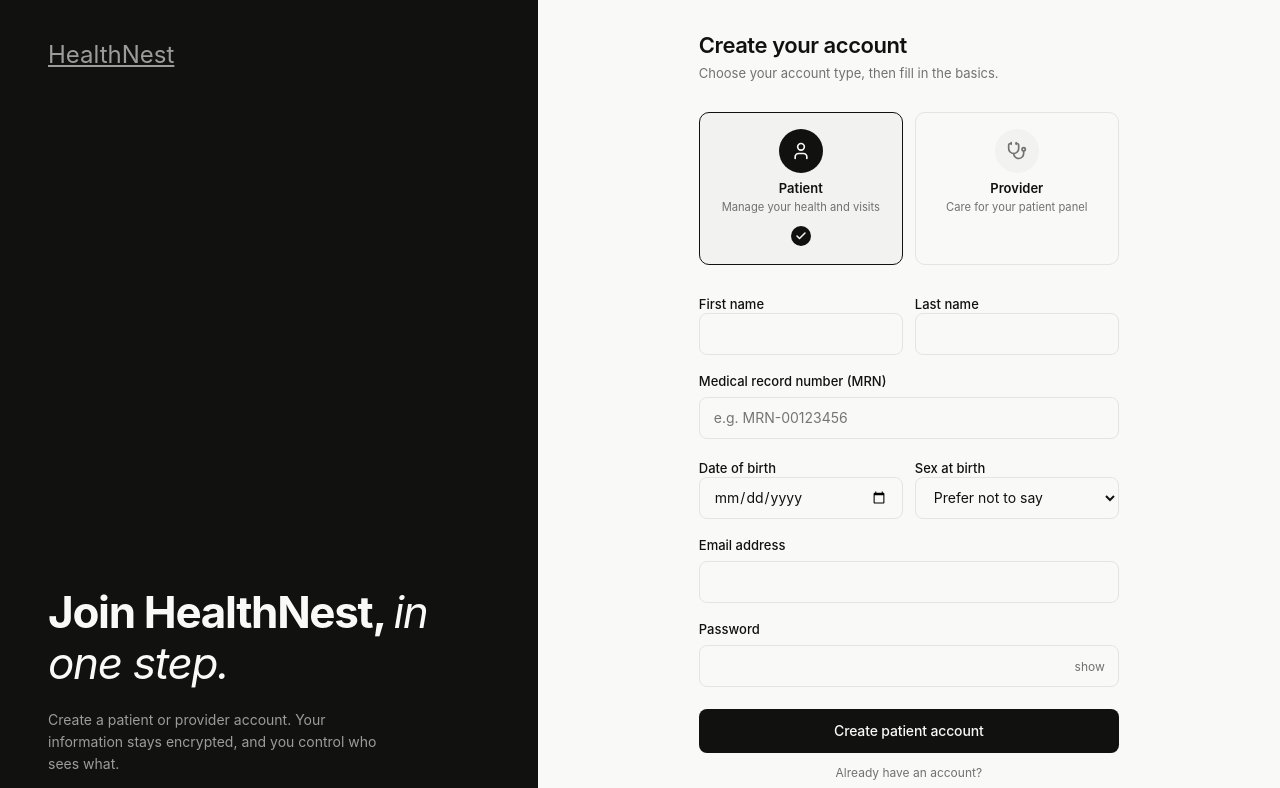
Scenario: Signup › switching back to patient role restores patient-only fields
This screenshot has width=1280, height=788.
What coordinates should you click on to do the following:
click the text "Provider"
I would click on:
 (1017, 188)
Its box is [990,180,1043,196].
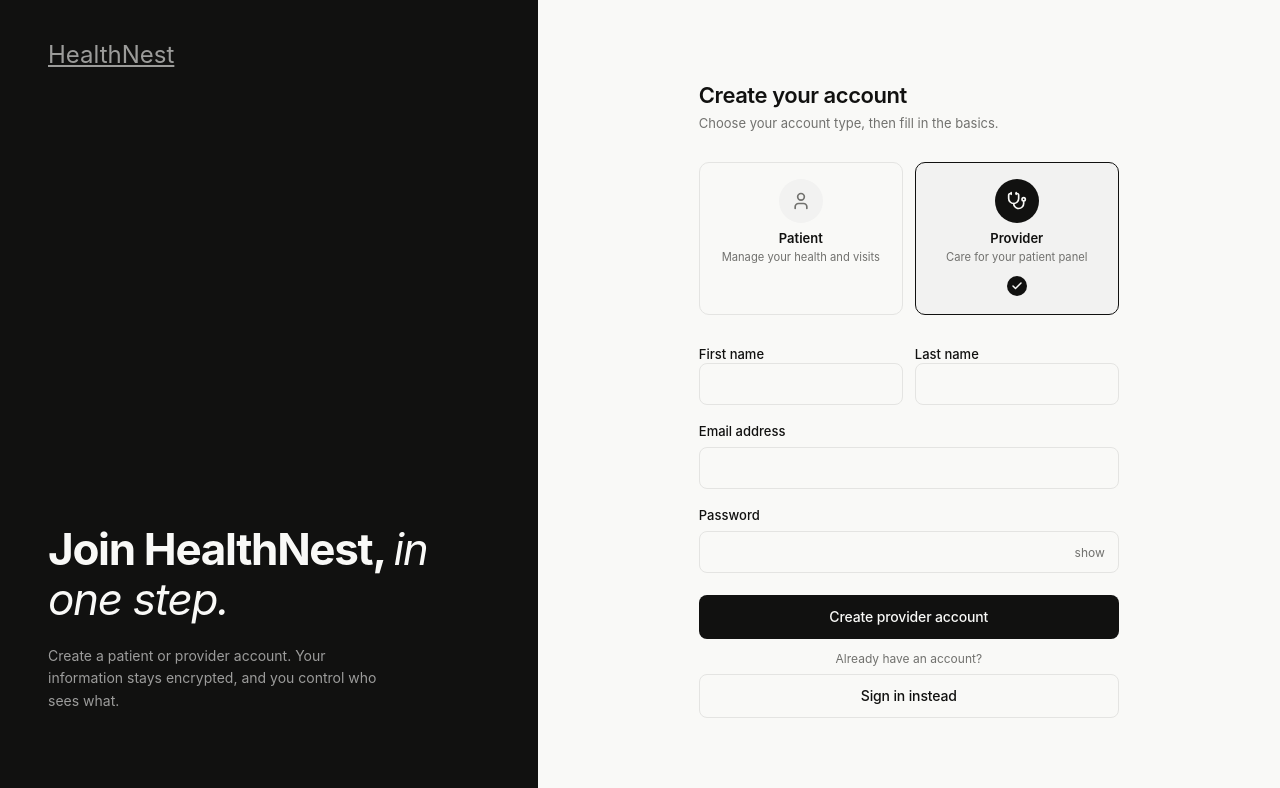
What coordinates should you click on to do the following:
click the text "Patient"
I would click on:
 (801, 238)
Its box is [779,231,823,246].
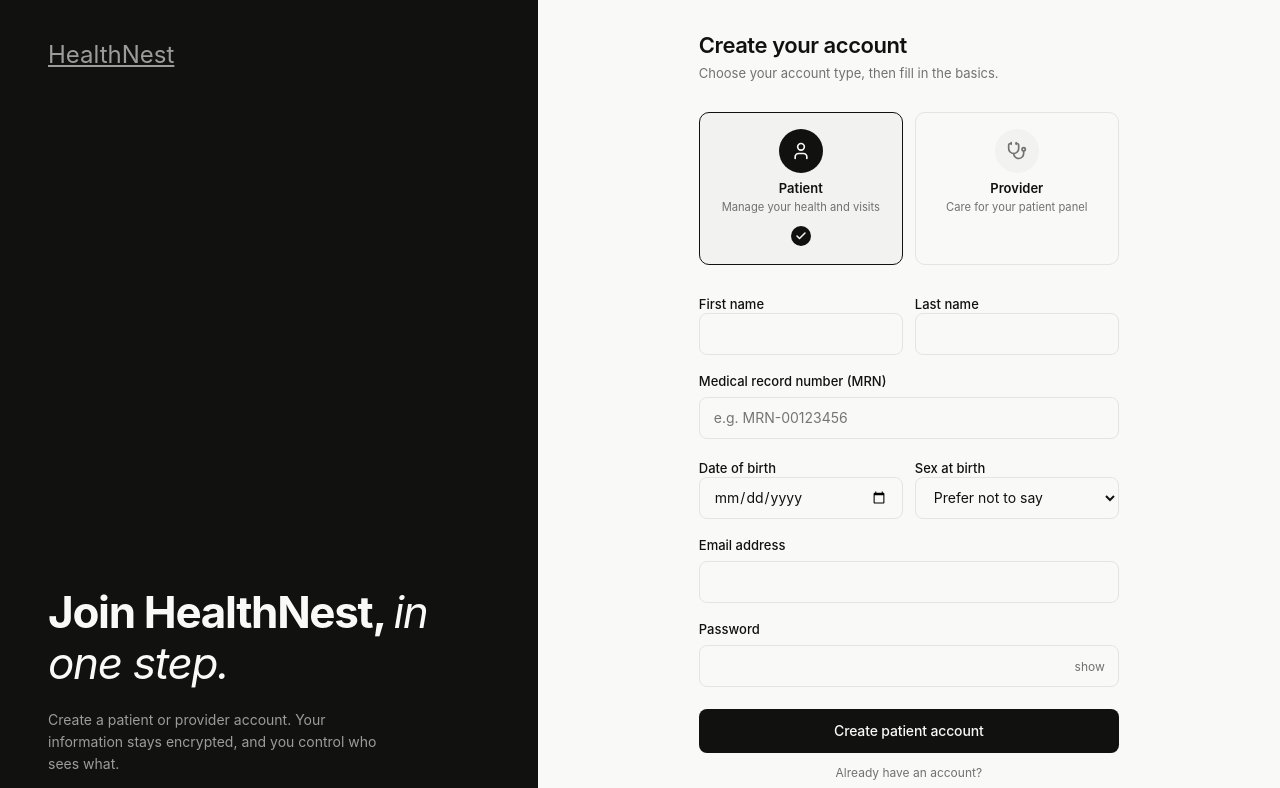
Expected: the field labelled "Medical record number (MRN)" is shown, [699,397,1119,439]
Expected: the date field labelled "Date of birth" is shown, [699,477,903,519]
